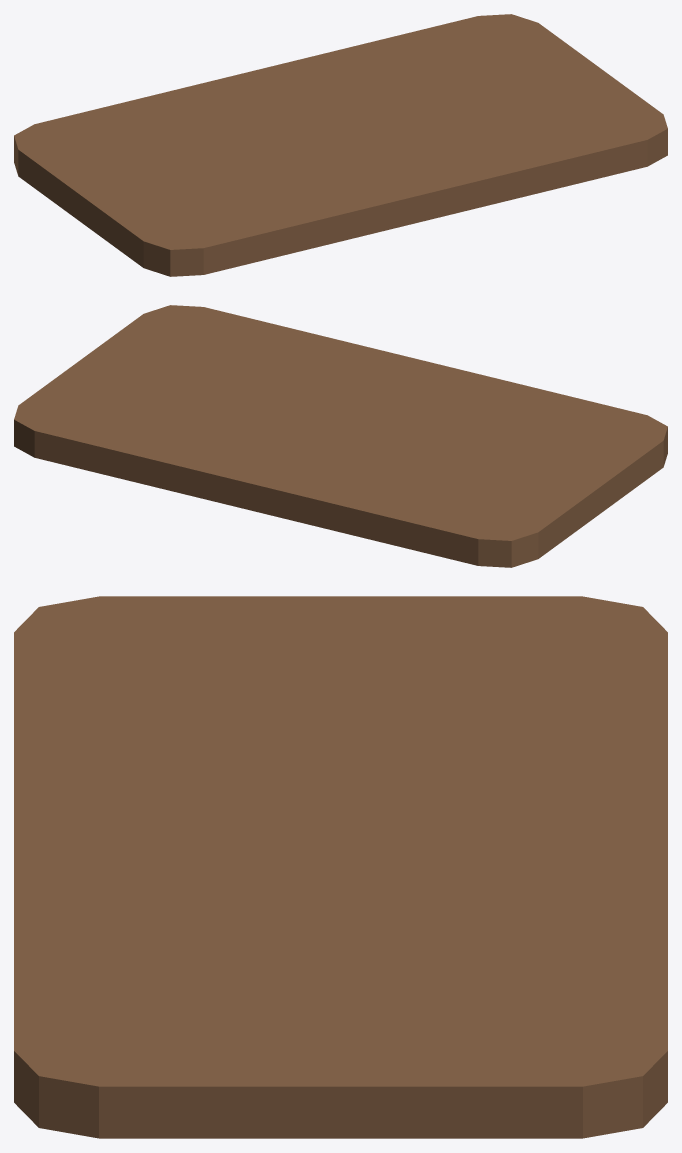
File: Dining_TableBase.fbx
3 renders of one model, top to bottom at view 1: azimuth 30°, elevation 25°; view 2: azimuth 150°, elevation 25°; view 3: azimuth 270°, elevation 25°, orthographic. The views are drawn at different scales.
Visible parts, largest first — view 1: TableBase; view 2: TableBase; view 3: TableBase.
Boxes of the visible parts, <box> form: TableBase: <box>14,14,667,276</box>; TableBase: <box>14,305,667,567</box>; TableBase: <box>14,596,667,1138</box>.
Bounding box in the file's own units: 420 × 237 × 20.74.
